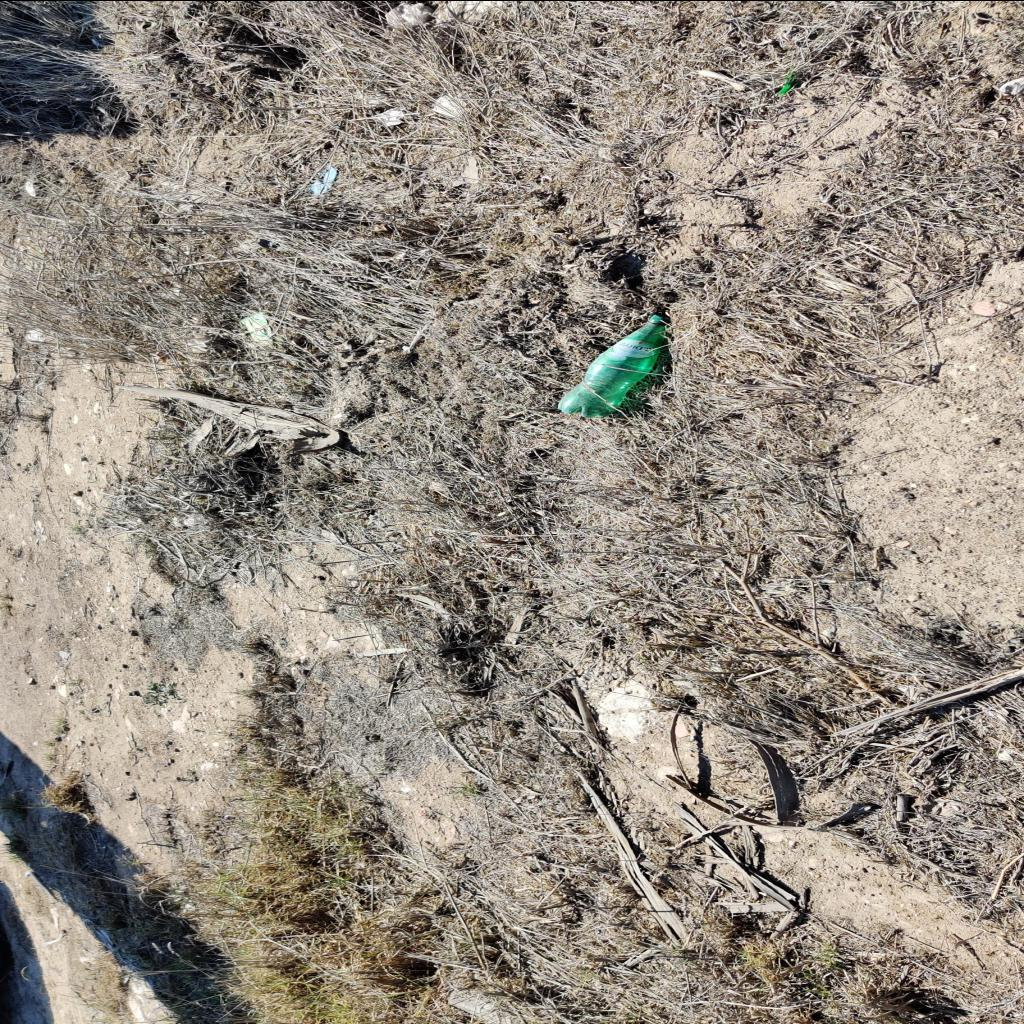Clear plastic bottle: (558, 314, 670, 418)
Other plastic wrapper: (778, 66, 794, 96)
Plastic bottle cap: (650, 314, 672, 322)
Plastic film: (387, 2, 433, 28)
Unlabeled litter: (241, 312, 274, 348), (310, 164, 338, 194)
